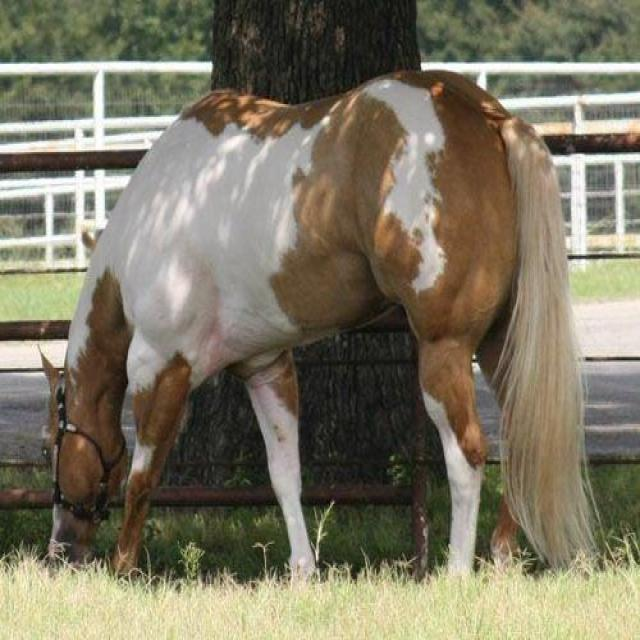horse: (40, 67, 603, 587)
